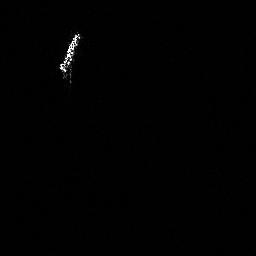ship: (56, 28, 83, 83)
